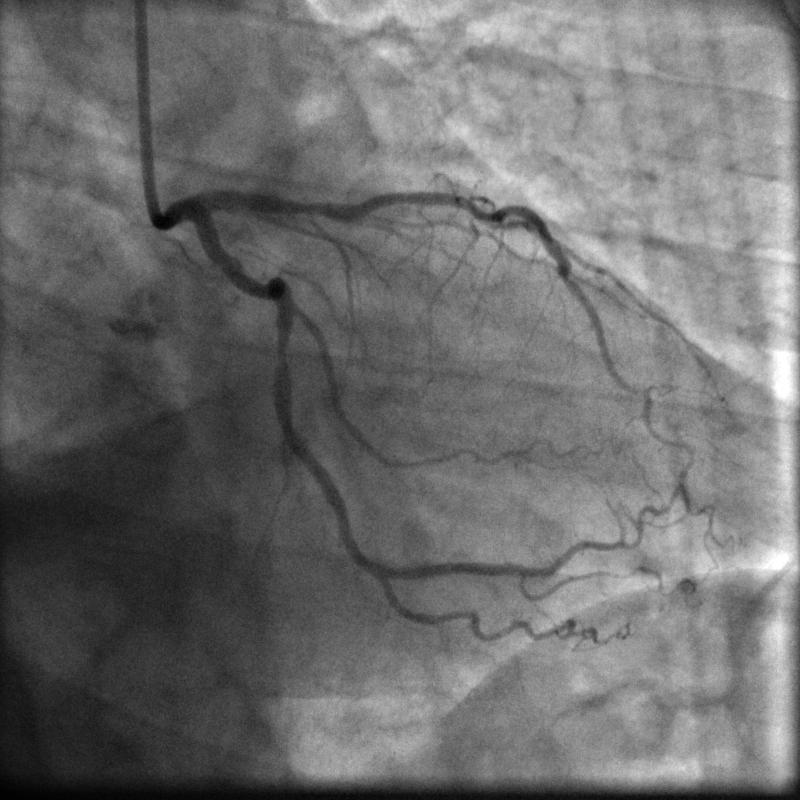Stenosis: (273, 338, 289, 367)
